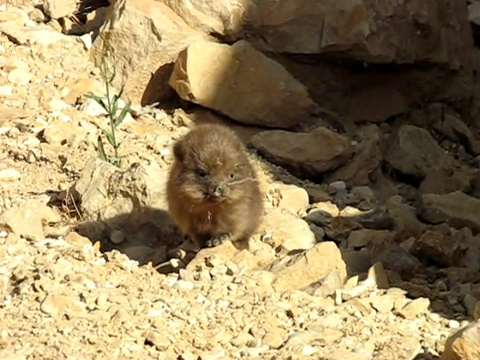Rock Hyrex: (171, 124, 263, 252)
